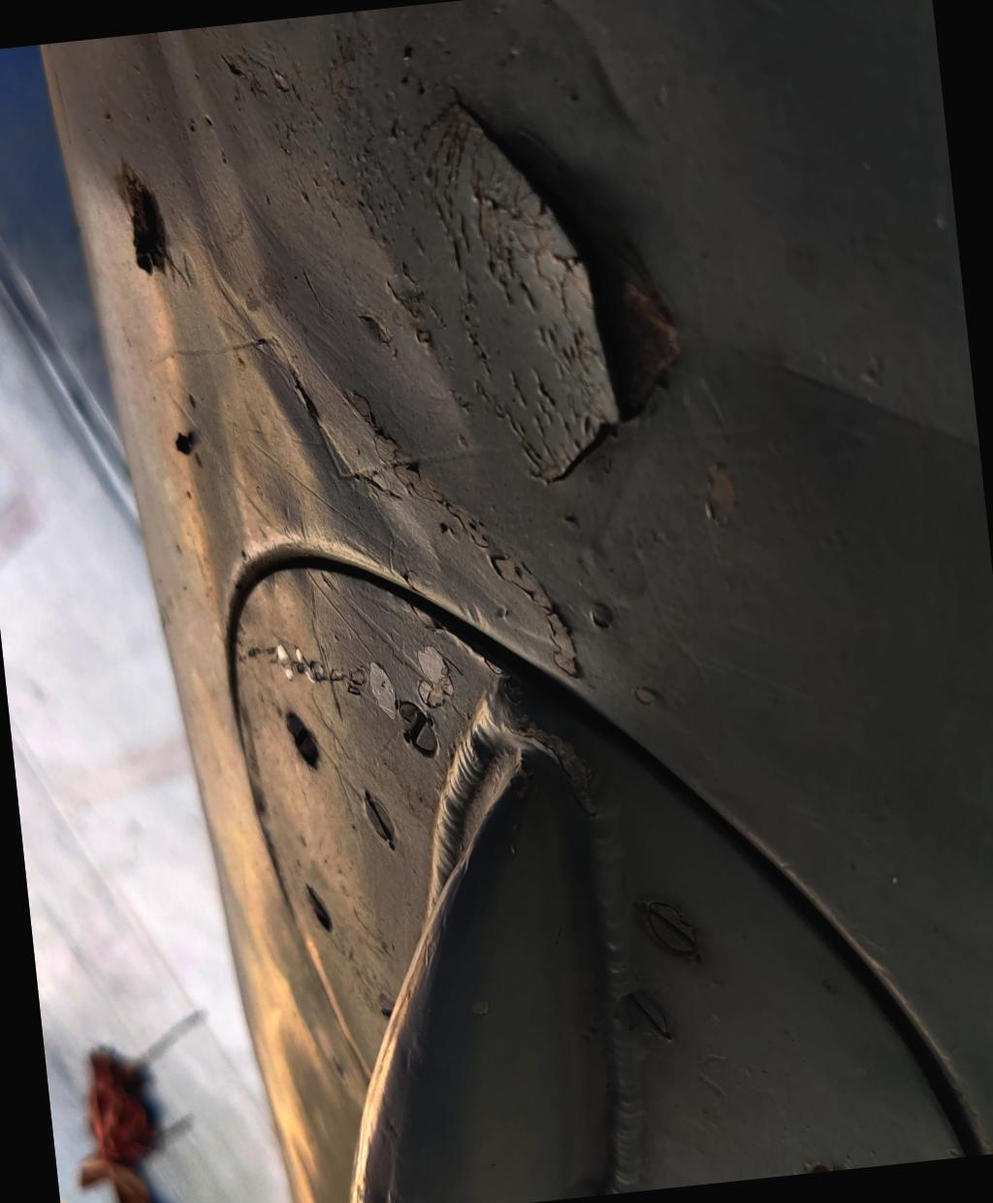crack: (106, 365, 524, 750)
